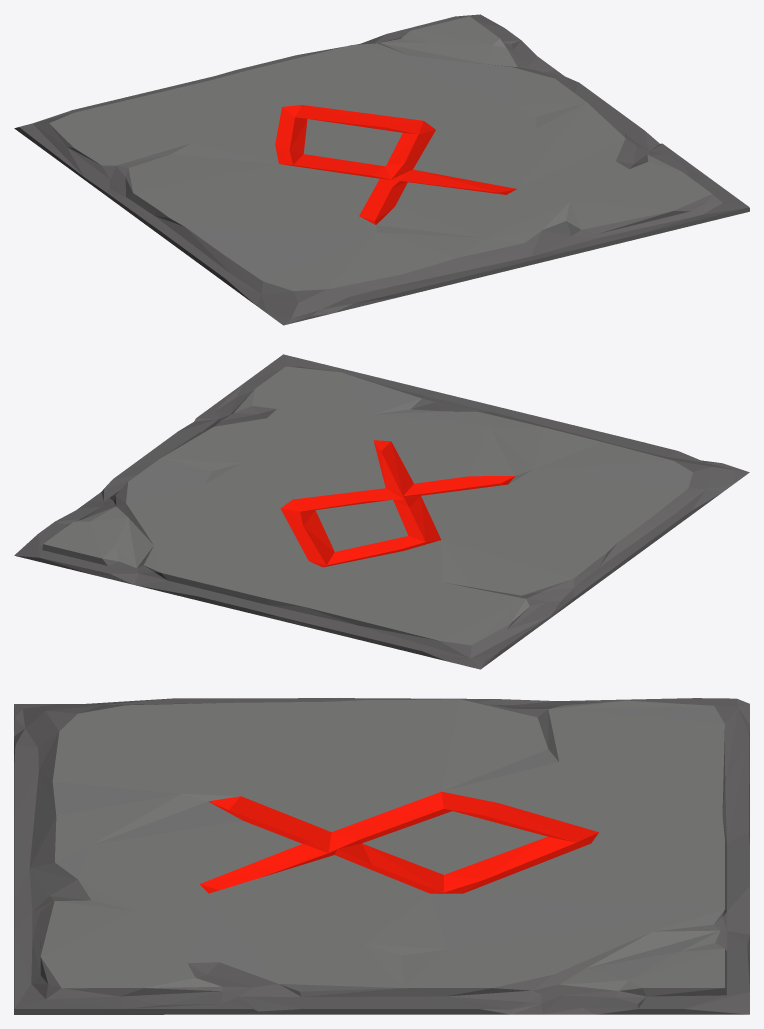
File: SM_Env_Tiles_Rune_03.FBX
3 views of the same model, one above another, from view 1: azimuth 30°, elevation 25°; view 2: azimuth 150°, elevation 25°; view 3: azimuth 270°, elevation 25° (orthographic). The views are drawn at different scales.
Parts seen in each view (by area): view 1: SM_Env_Tiles_Rune_03; view 2: SM_Env_Tiles_Rune_03; view 3: SM_Env_Tiles_Rune_03.
Boxes of the visible parts, <box> form: SM_Env_Tiles_Rune_03: <box>14,14,749,325</box>; SM_Env_Tiles_Rune_03: <box>14,354,749,669</box>; SM_Env_Tiles_Rune_03: <box>14,698,749,1014</box>.
Size of what is drawn, in the model's own units: 500 by 500 by 10.14.
